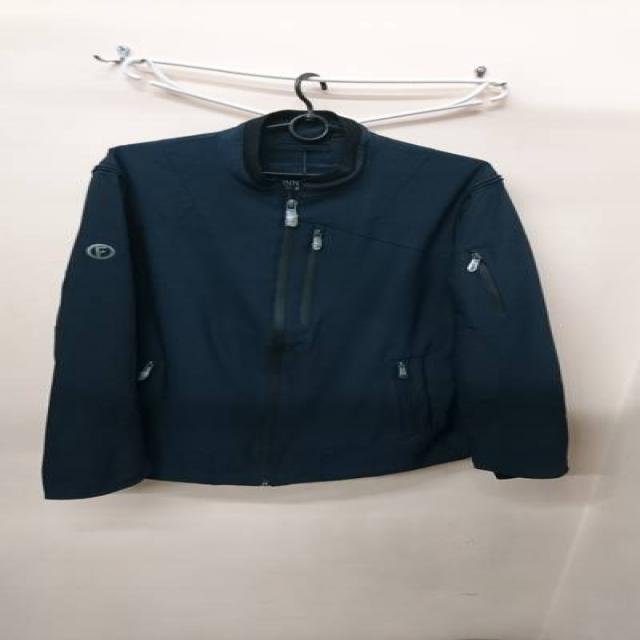Clothes -Biodegradable-: (41, 111, 579, 502)
